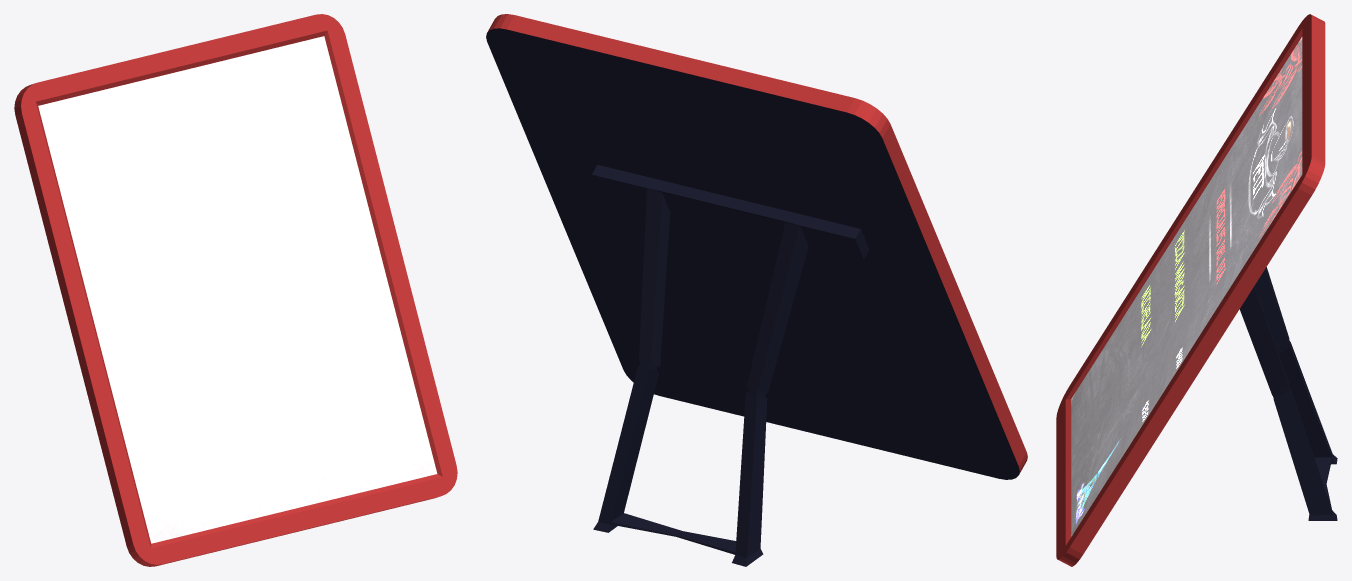
The model's file is menu-3d.gltf.
3 views of the same model, side by side, from view 1: azimuth 30°, elevation 25°; view 2: azimuth 150°, elevation 25°; view 3: azimuth 270°, elevation 25° (orthographic). The views are drawn at different scales.
Parts seen in each view (by area): view 1: Cube; view 2: Cube, Cube.001; view 3: Cube, Cube.001.
Part boxes in pixels (box(x1,y1,x2,y2)): Cube: box(14, 14, 457, 566); Cube: box(486, 14, 1027, 479); Cube.001: box(591, 164, 869, 566); Cube: box(1056, 14, 1325, 566); Cube.001: box(1239, 267, 1337, 520).
Bounding box in the file's own units: 3 × 3.53 × 2.2.
